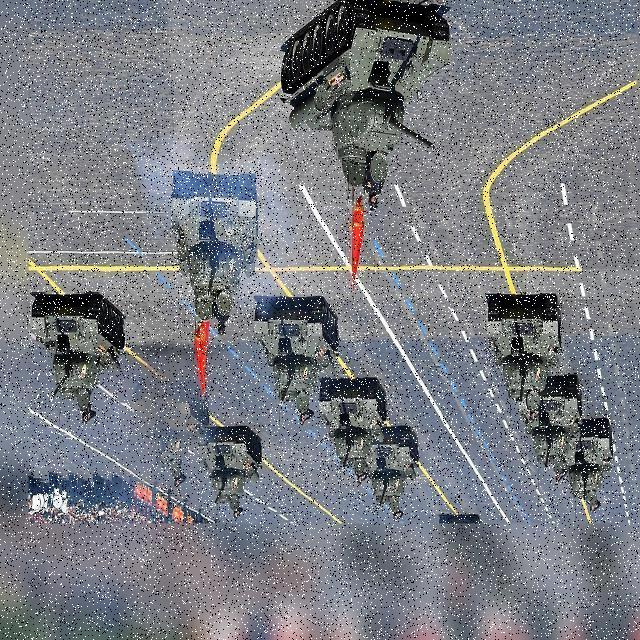MIL_MBT: (278, 0, 452, 196), (170, 168, 262, 326), (30, 293, 126, 425), (253, 296, 348, 426), (133, 375, 209, 487), (484, 292, 564, 394), (339, 424, 419, 517), (318, 378, 390, 476), (518, 374, 586, 462), (194, 426, 262, 510), (550, 419, 614, 507)
